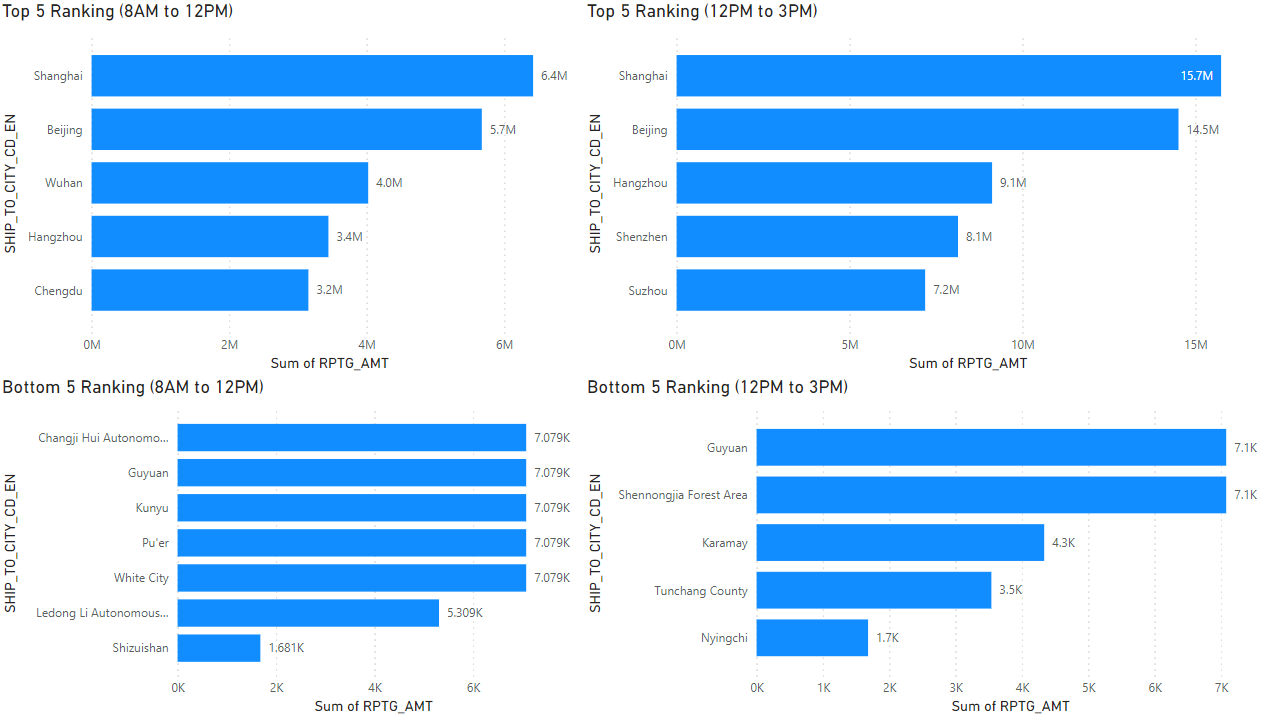

What the dashboard file says about the page in this screenshot:
{"tool":"powerbi","page":{"name":"Page 1","canvas":[1280,720],"ordinal":0},"visuals":[{"type":"clusteredBarChart","title":"Top 5 Ranking (8AM to 12PM)","fields":{"Category":["5 AM - 9 AM.SHIP_TO_CITY_CD_EN"],"Y":["Sum(5 AM - 9 AM.RPTG_AMT)"]},"box":[0,0,585,376.7],"z":0},{"type":"clusteredBarChart","title":"Bottom 5 Ranking (8AM to 12PM)","fields":{"Category":["5 AM - 9 AM.SHIP_TO_CITY_CD_EN"],"Y":["Sum(5 AM - 9 AM.RPTG_AMT)"]},"box":[0,376.7,585,343.3],"z":1000},{"type":"clusteredBarChart","title":"Top 5 Ranking (12PM to 3PM)","fields":{"Category":["Sheet1.SHIP_TO_CITY_CD_EN"],"Y":["Sum(Sheet1.RPTG_AMT)"]},"box":[585,0,695,376.7],"z":2000},{"type":"clusteredBarChart","title":"Bottom 5 Ranking (12PM to 3PM)","fields":{"Y":["Sum(Sheet1.RPTG_AMT)"],"Category":["Sheet1.SHIP_TO_CITY_CD_EN"]},"box":[585,376.7,695,343.3],"z":2002}]}

Visuals, with their boxes in screenshot pixels (x1, y1, x2, y2), scaled from the page's 1280x720 canvas onto the 1273x715 screenshot:
"Top 5 Ranking (8AM to 12PM)" clusteredBarChart: crop(0, 0, 582, 374)
"Bottom 5 Ranking (8AM to 12PM)" clusteredBarChart: crop(0, 374, 582, 714)
"Top 5 Ranking (12PM to 3PM)" clusteredBarChart: crop(582, 0, 1272, 374)
"Bottom 5 Ranking (12PM to 3PM)" clusteredBarChart: crop(582, 374, 1272, 714)
